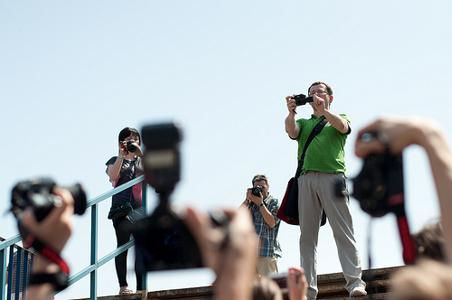person: (286, 81, 365, 299)
